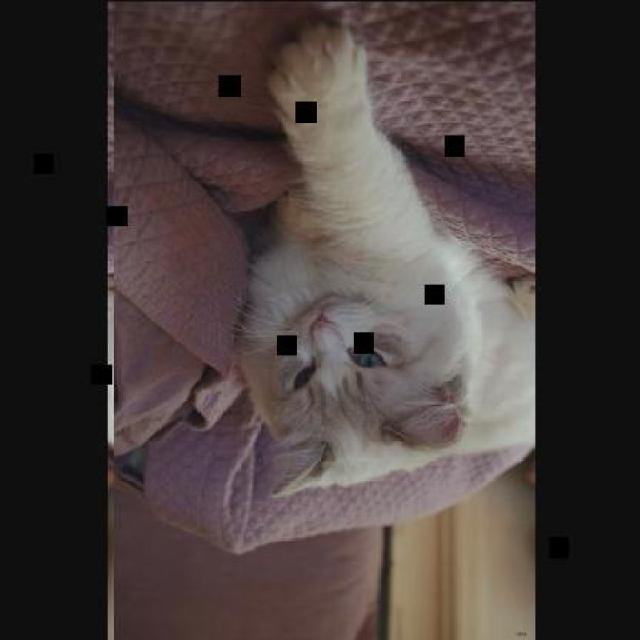unauthorized: (231, 18, 534, 500)
